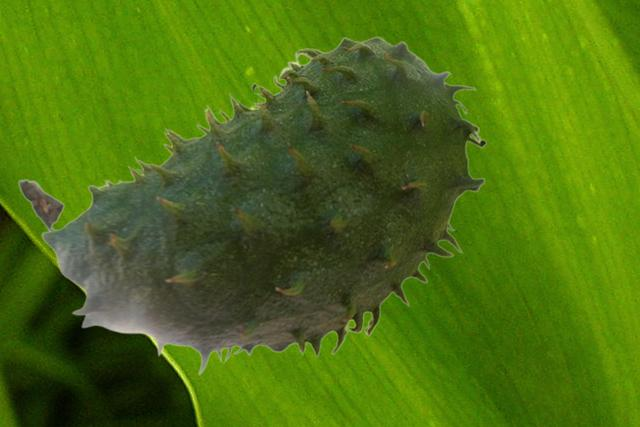guyabano: (17, 36, 486, 375)
